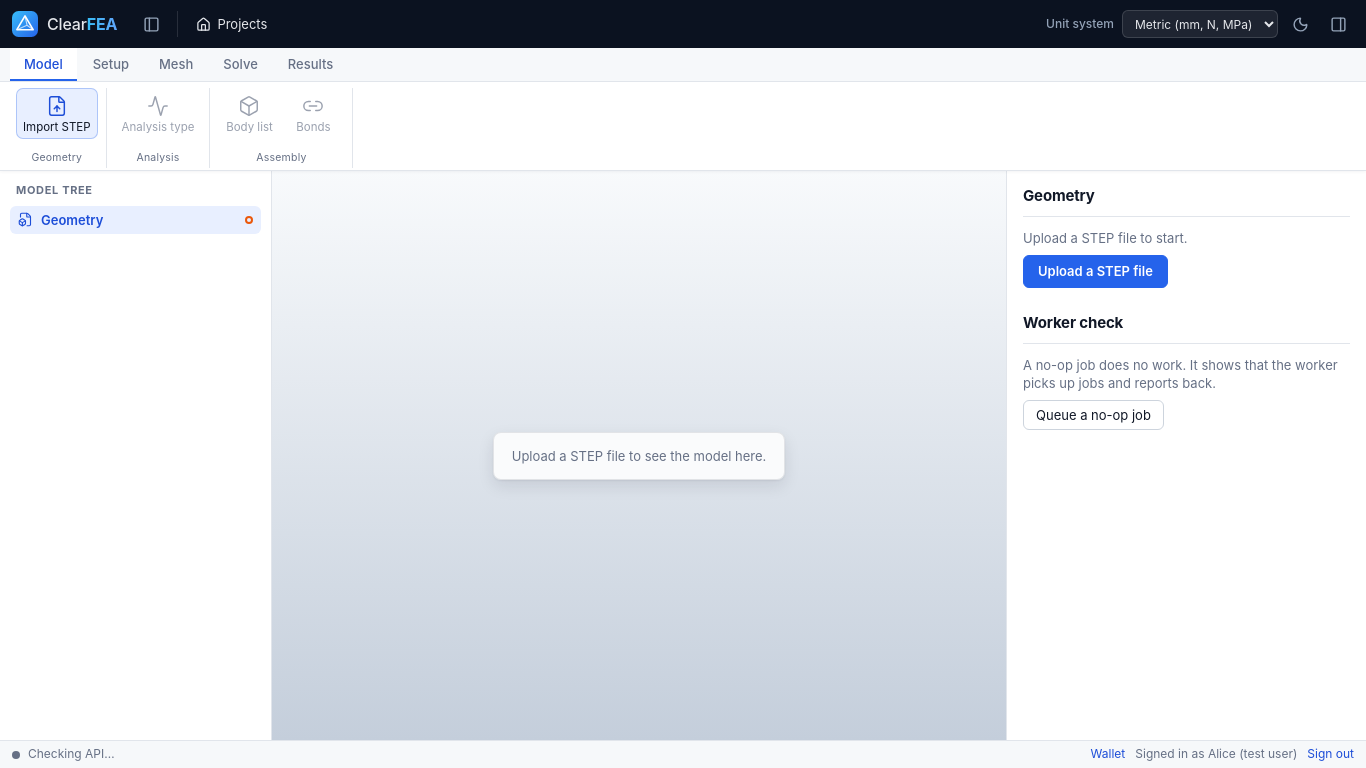
Scenario: worker check › queues a no-op job and follows it to succeeded
Click the button "Queue a no-op job" at (1093, 415), box top-left (1023, 400), bottom-right (1164, 430)
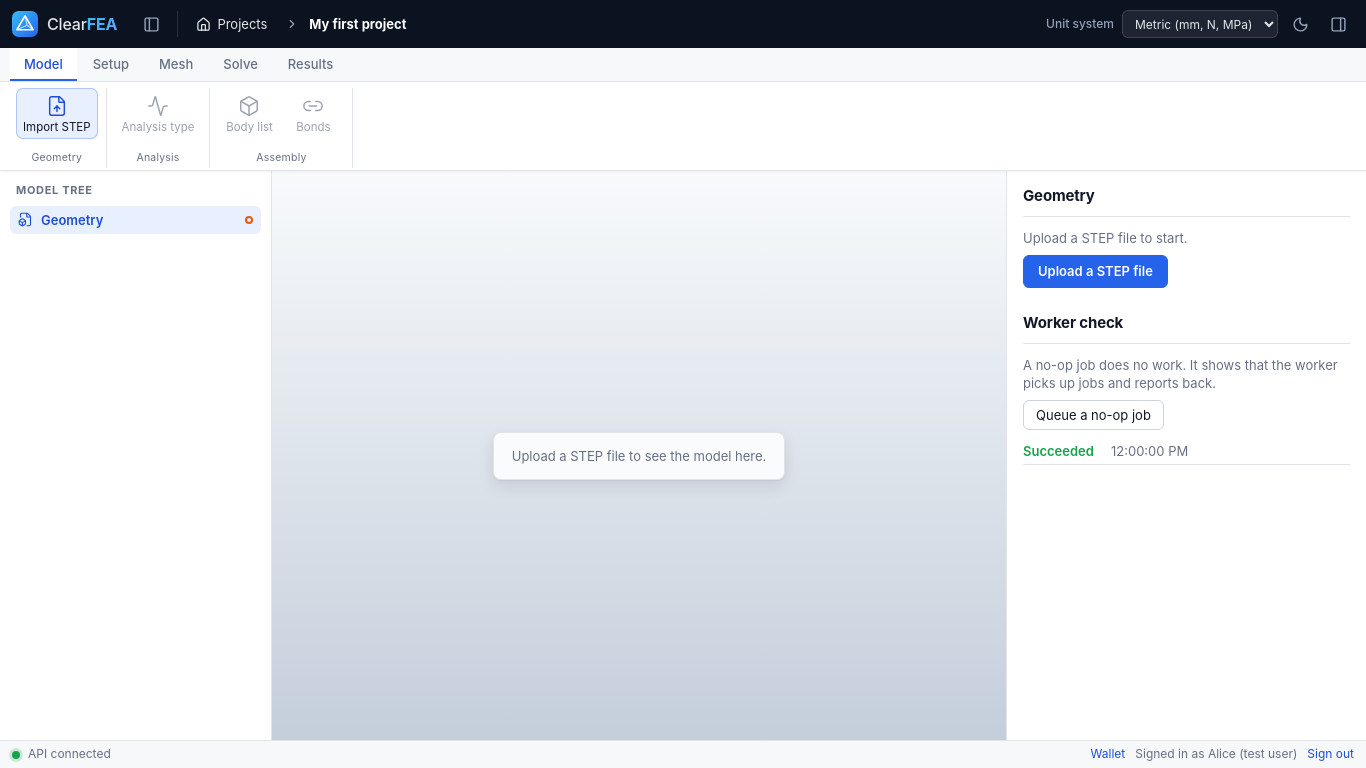
Expected: the text "Succeeded" is shown, top-left (1023, 442), bottom-right (1103, 460)
